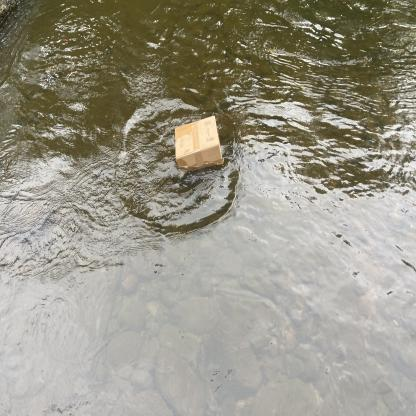trash: (170, 112, 226, 178)
